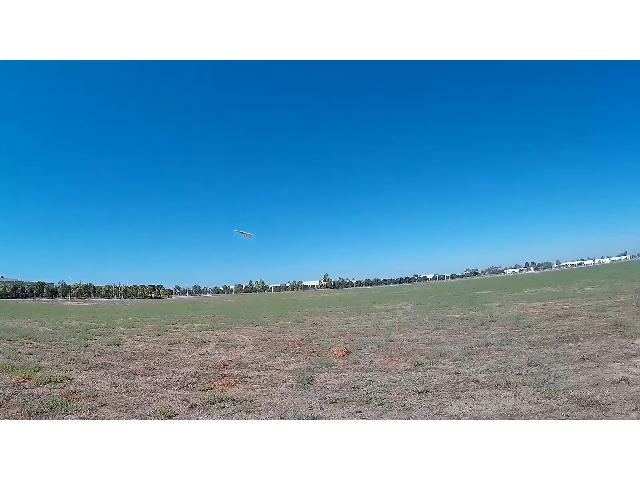Anti-Drone: (234, 230, 254, 238)
